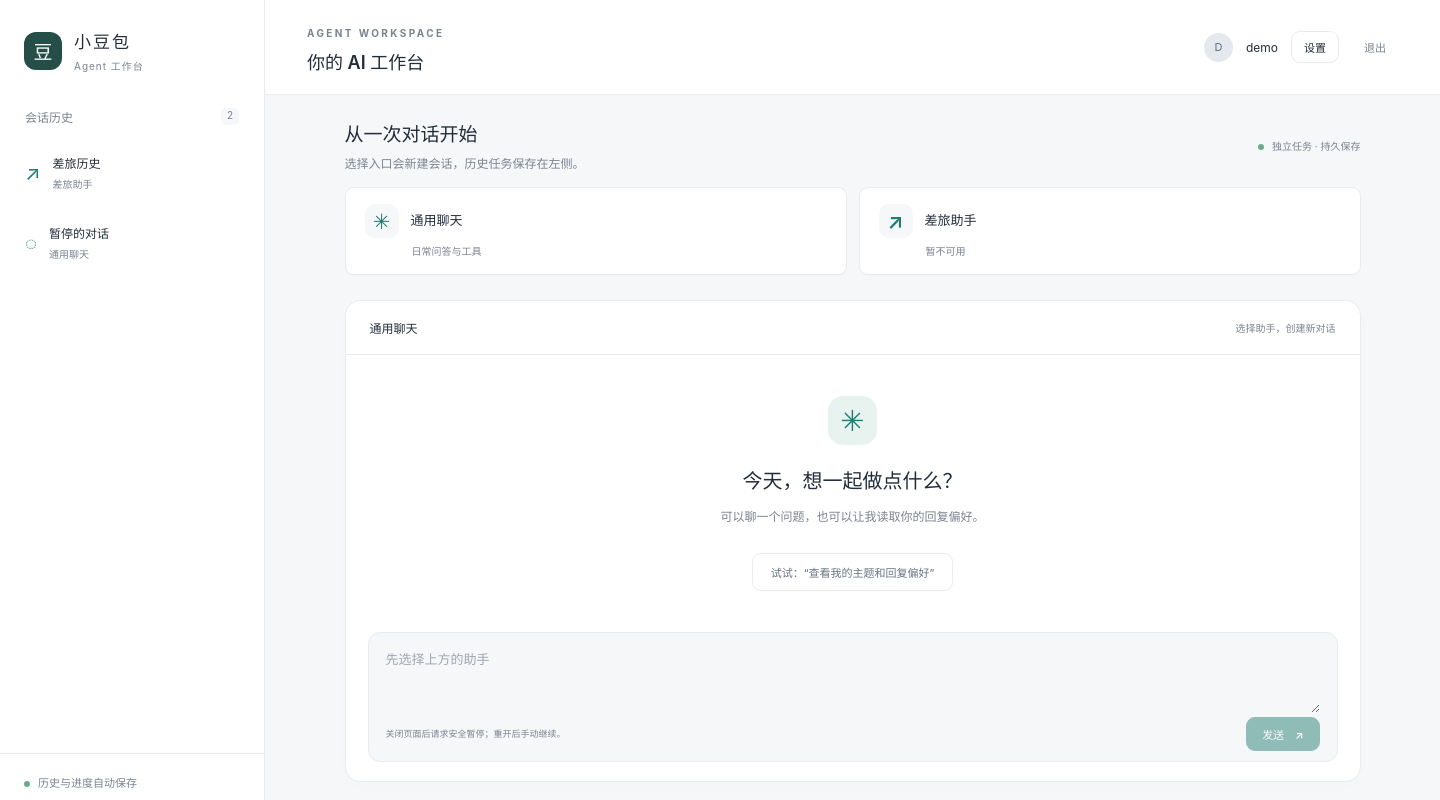
平台交互 › updatesPreviouslySavedPartialWithNewDeltas
The width and height of the screenshot is (1440, 800).
Step 1. Click the button "◌ 暂停的对话 通用聊天" → [132, 242], box [12,210,252,275]
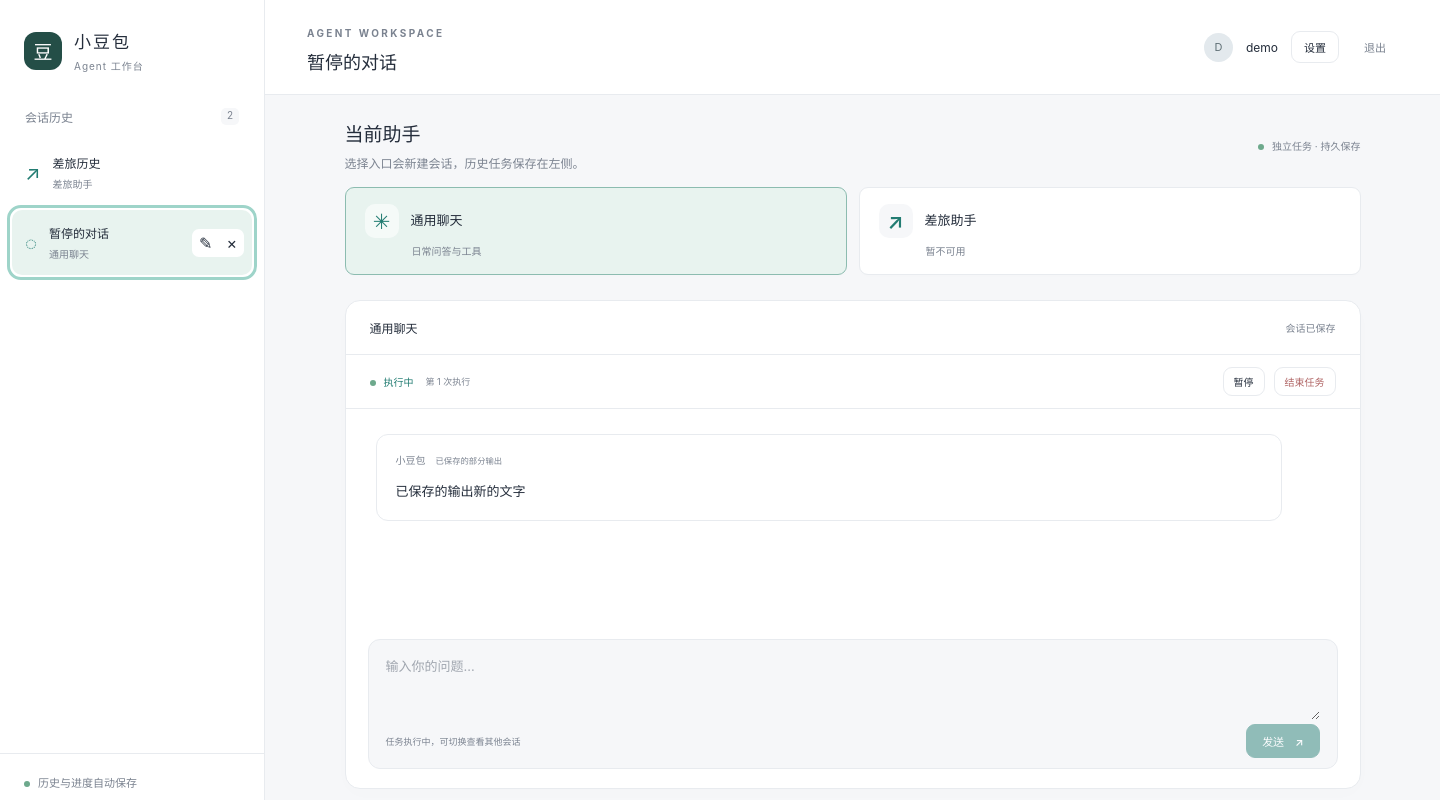
Result: the text "已保存的输出新的文字" is shown at [396,483,526,499]
